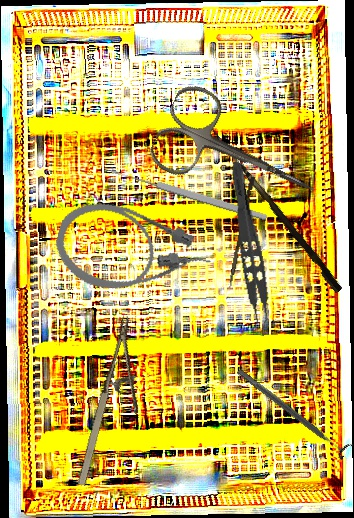Cannula: (47, 191, 219, 315)
Fixation Ring: (232, 362, 354, 461)
Hook Surgical: (202, 126, 346, 294)
Iris Scissors: (144, 77, 334, 234)
Needle Holder: (72, 314, 164, 495)
Pusher: (228, 176, 255, 289)
Surgical Spoon: (110, 165, 268, 223)
Tissue Forceps: (216, 160, 277, 334)
